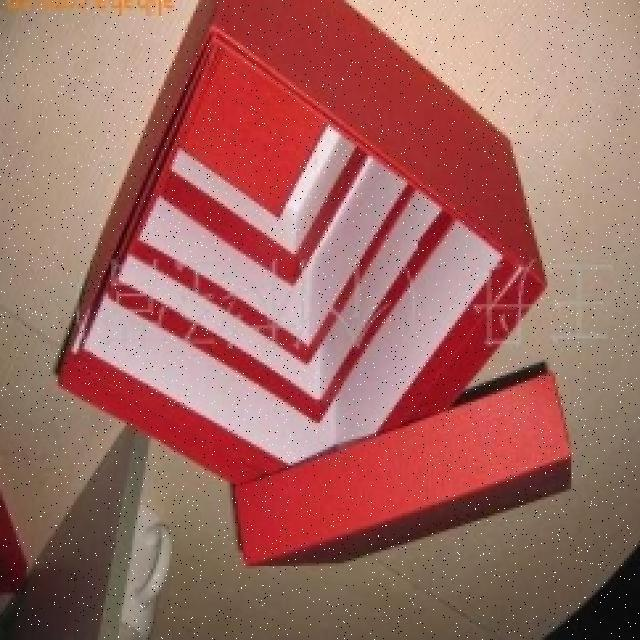box: (63, 0, 574, 569)
